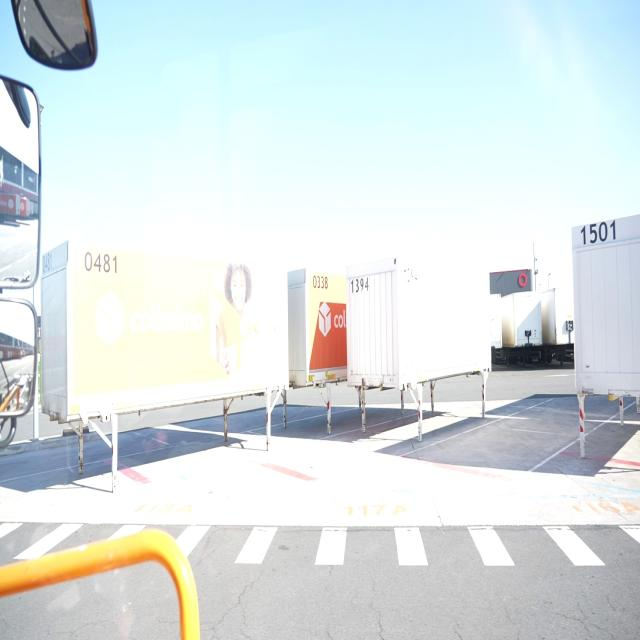Code: (81, 247, 119, 279), (580, 220, 618, 247), (348, 277, 372, 295), (310, 274, 330, 292)
